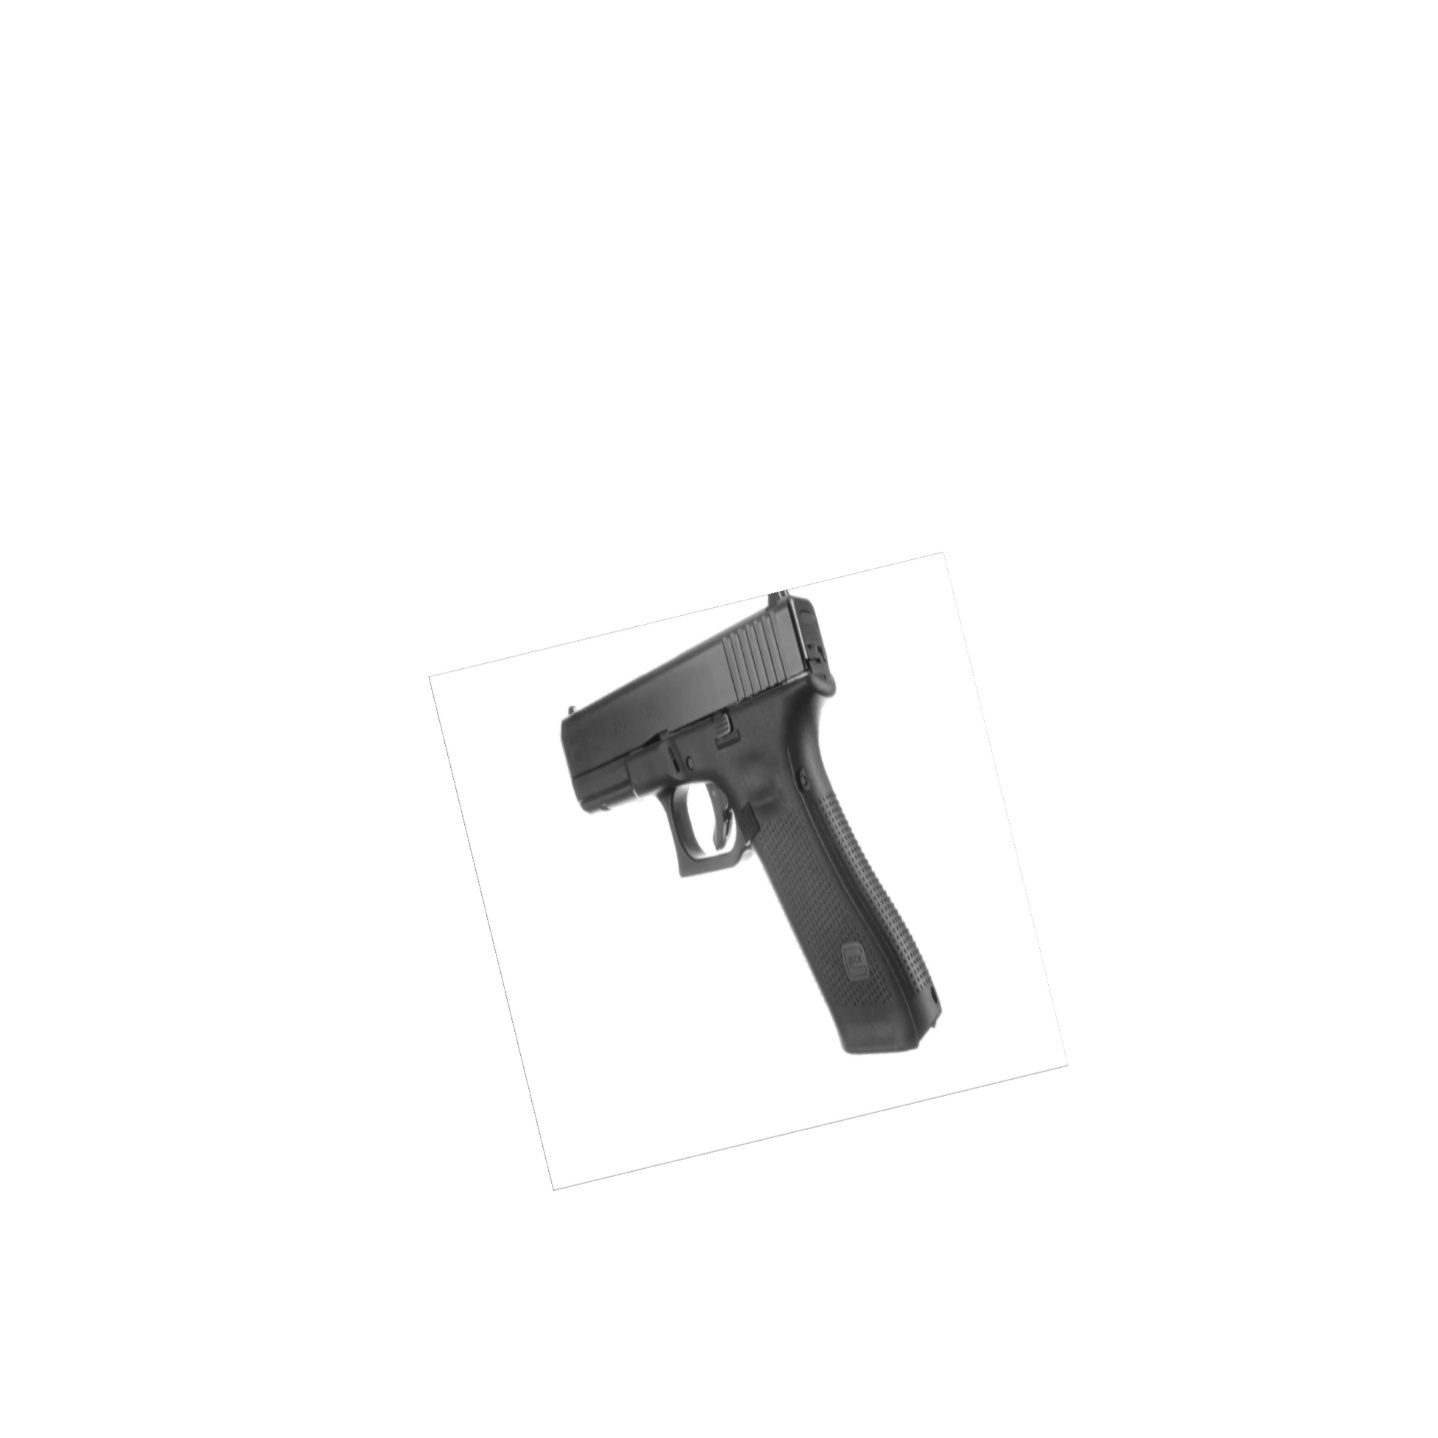gun: (561, 590, 942, 1056)
